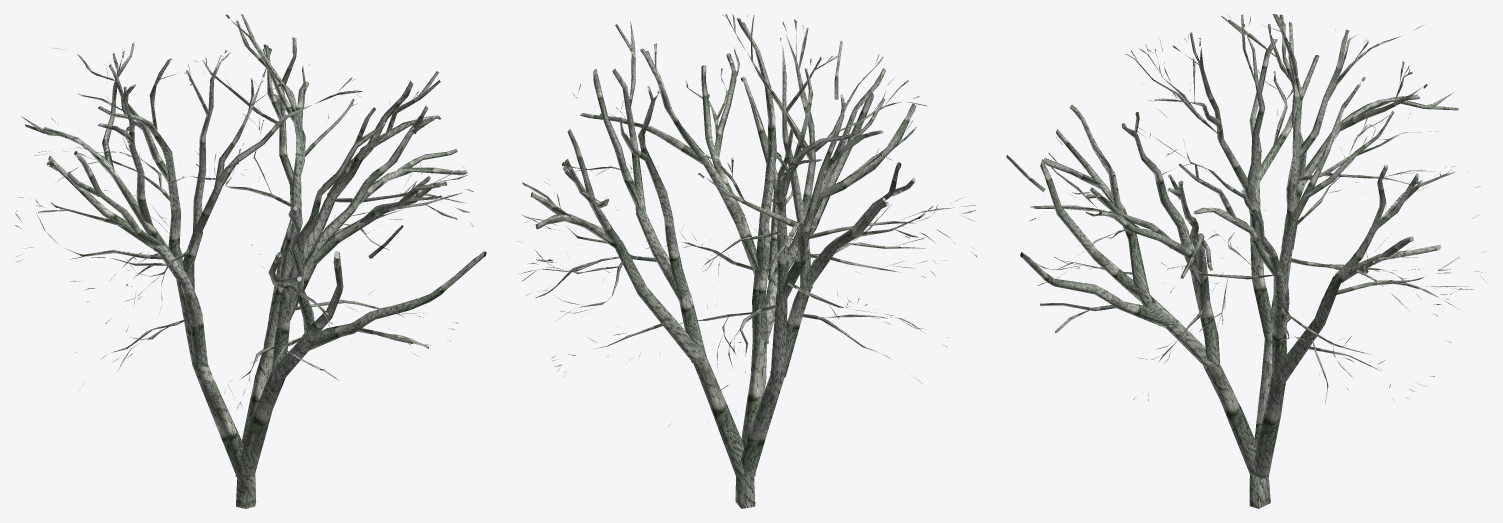
The model's file is tree_1_lod_2.glb.
3 renders of one model, left to right at view 1: azimuth 30°, elevation 25°; view 2: azimuth 150°, elevation 25°; view 3: azimuth 270°, elevation 25°, orthographic.
Visible parts, largest first — view 1: tree; view 2: tree; view 3: tree.
Part boxes in pixels (x1,y1,x2,y2): tree: [15, 14, 486, 508]; tree: [517, 14, 977, 508]; tree: [1006, 14, 1487, 508].
Bounding box in the file's own units: 6.26 × 7.17 × 6.72.
Materials: 1 (1 with a texture image).
